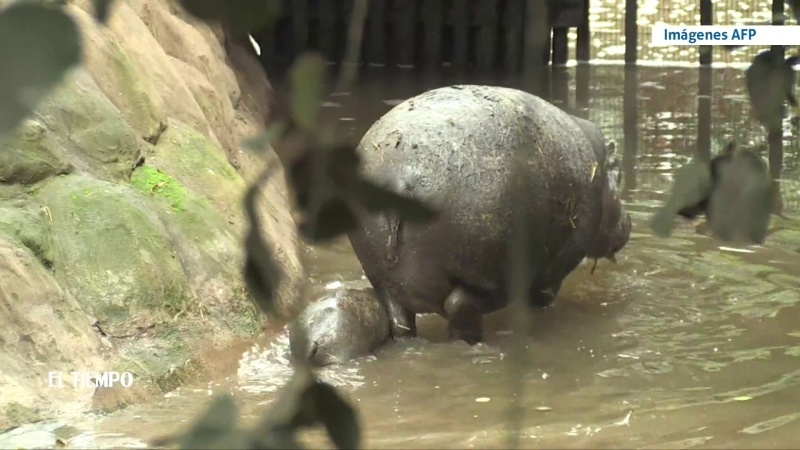hipopotamo: (346, 64, 656, 360), (277, 273, 400, 391)
